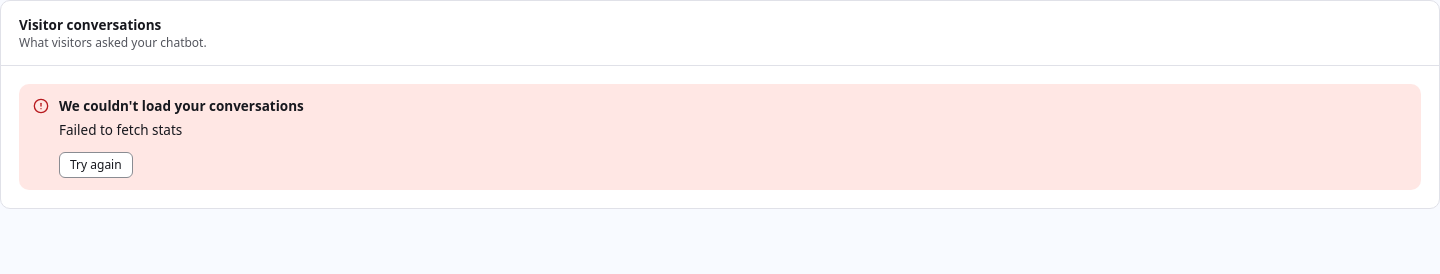
Test: shows load errors with a retry instead of an empty list
Check: the message shows "Failed to fetch stats", box [59,121,182,139]
Click the button "Try again": (96, 165) [59,152,133,178]
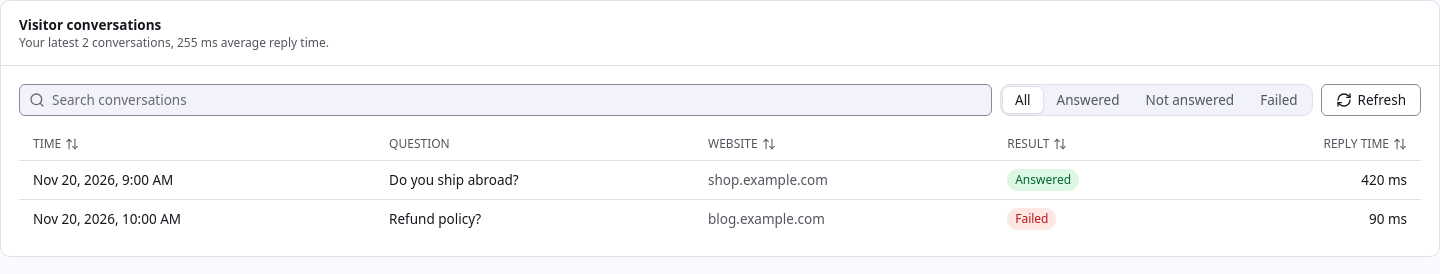
Check: the text "Do you ship abroad?" is shown, box [389,171,519,189]
